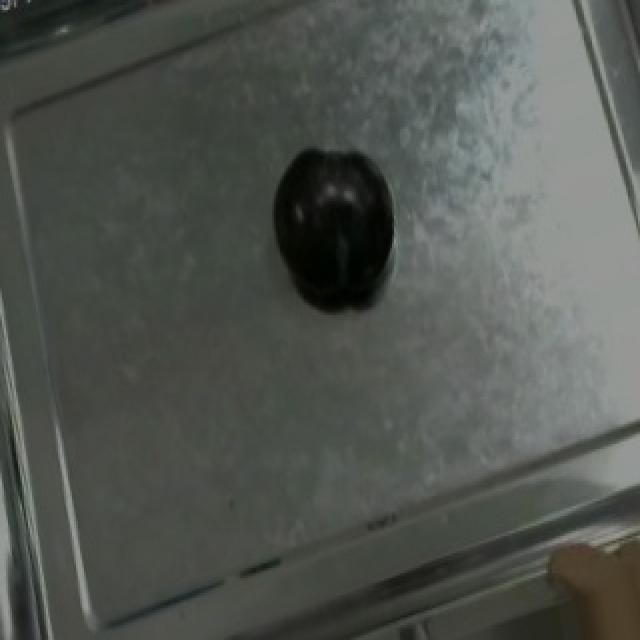Fruit: (254, 129, 406, 315)
